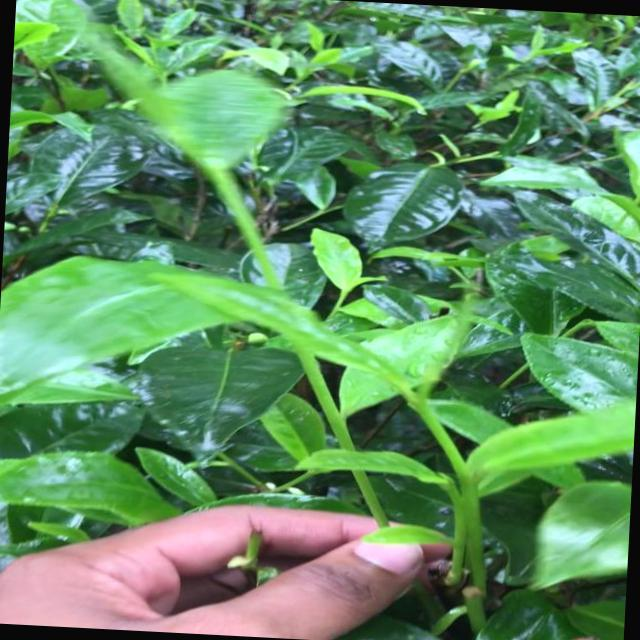Stem: (226, 196, 266, 256), (460, 479, 479, 534)
